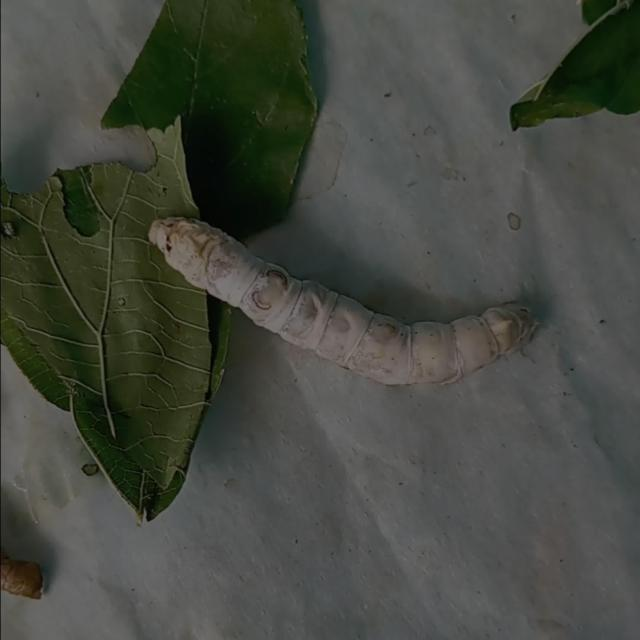Grasserie: (139, 205, 542, 402)
